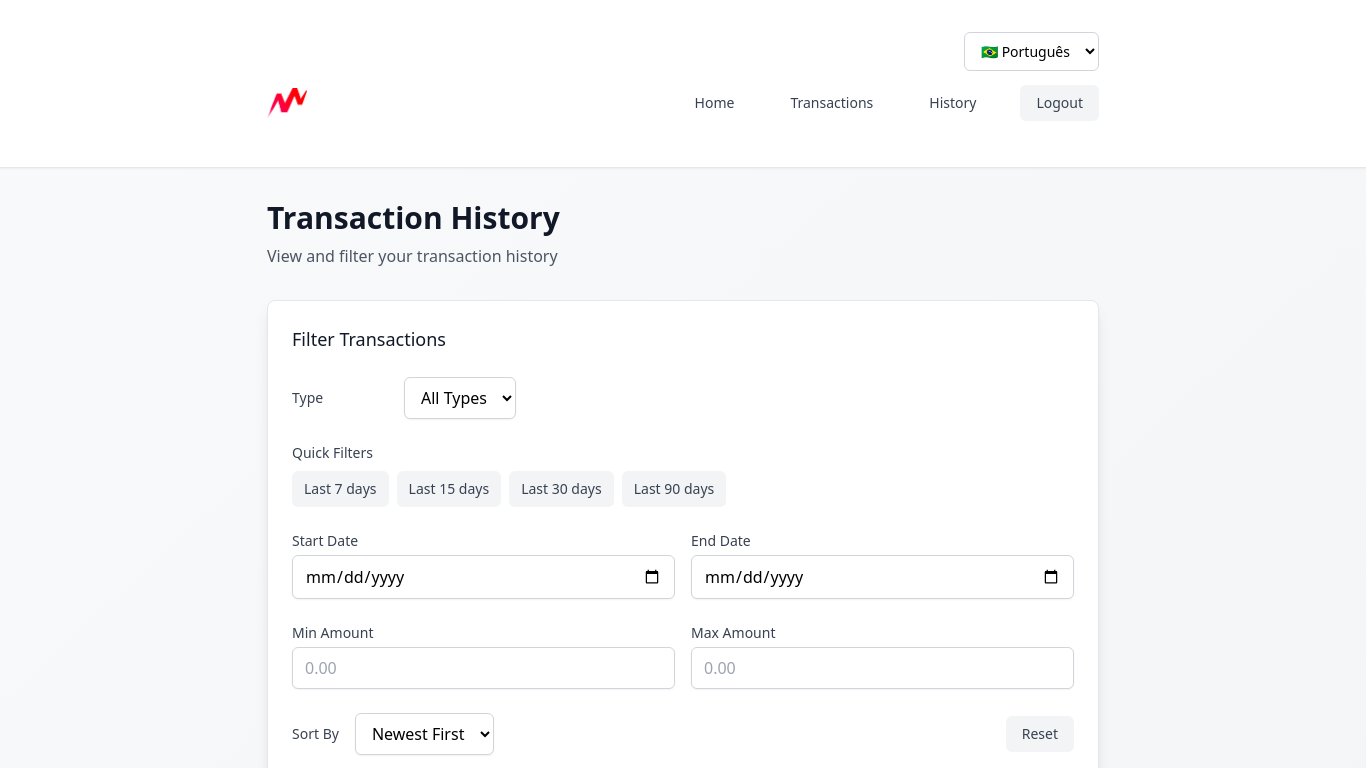
Test: History Component › should handle period filter functionality
# Test period filter button
Click the button "Last 7 days". click: (340, 489)
box: [292,471,389,507]
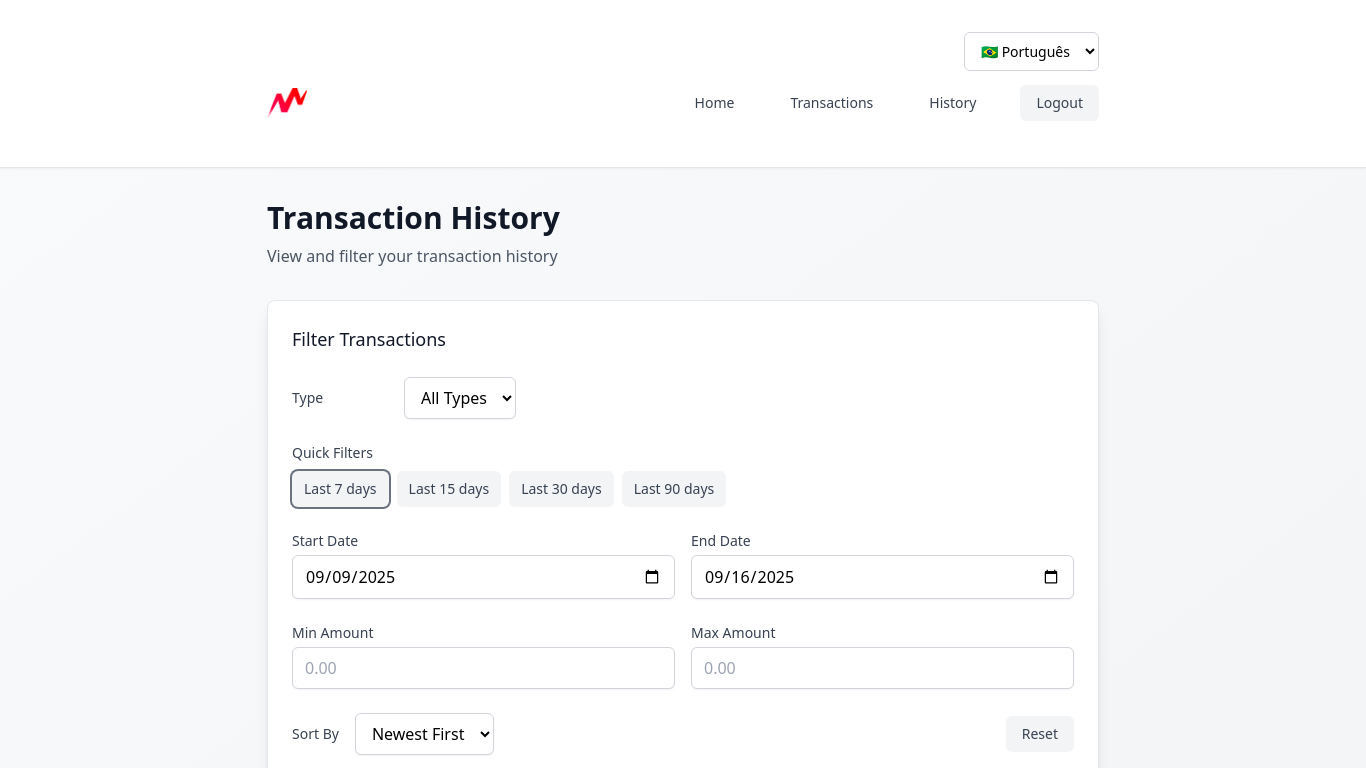
Expected: the heading "Transaction History" is shown, [267,197,560,238]
Expected: the date field labelled "Start Date" is not empty, [292,555,675,599]
Expected: the date field labelled "End Date" is not empty, [691,555,1074,599]
